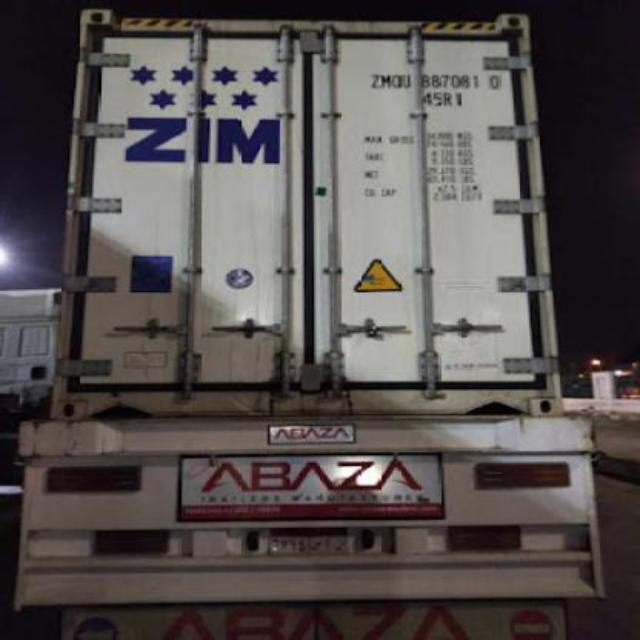0: (452, 74, 462, 90), (490, 74, 500, 90)
1: (472, 74, 480, 88)
7: (440, 72, 450, 88)
8: (422, 74, 430, 90), (432, 74, 440, 88), (462, 75, 470, 88)
M: (380, 72, 392, 88)
O: (392, 74, 402, 88)
U: (402, 74, 410, 88)
Z: (370, 74, 380, 88)
